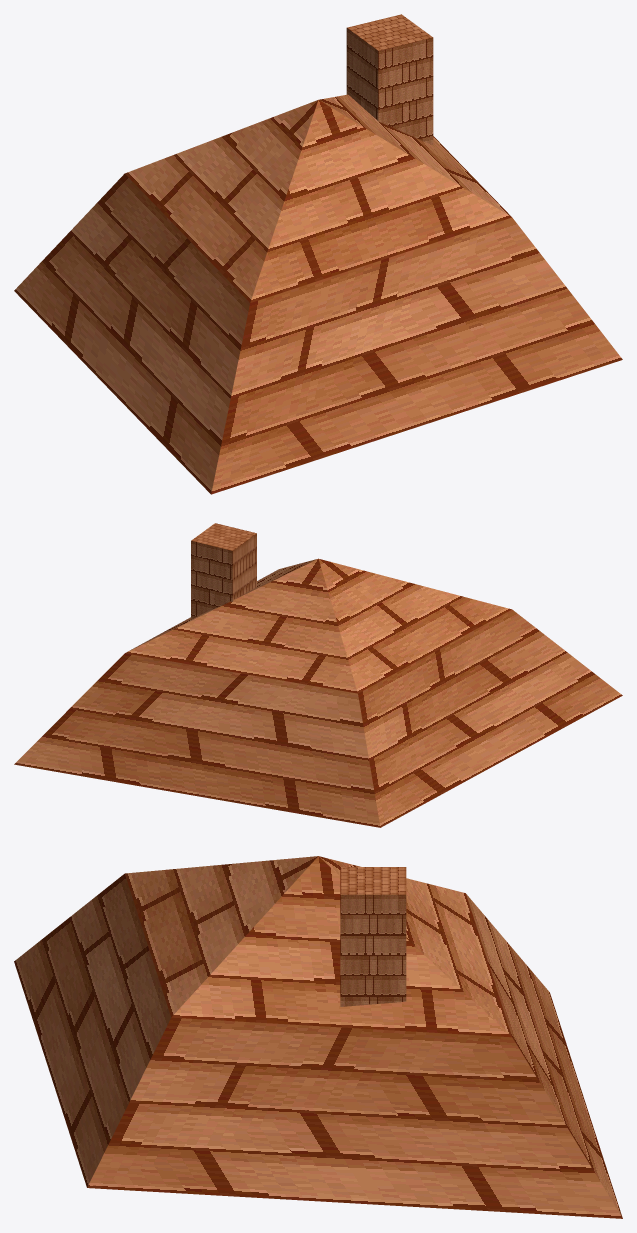
Rendered from telhado_10_padaria.glb.
The picture shows the model from 3 angles, top to bottom: view 1: azimuth 30°, elevation 25°; view 2: azimuth 150°, elevation 25°; view 3: azimuth 270°, elevation 25°; orthographic projection. The views are drawn at different scales.
Parts seen in each view (by area): view 1: telhado_10_padaria; view 2: telhado_10_padaria; view 3: telhado_10_padaria.
Part boxes in pixels (left/top/right/bottom): telhado_10_padaria: left=14, top=14, right=622, bottom=494; telhado_10_padaria: left=14, top=523, right=622, bottom=827; telhado_10_padaria: left=14, top=856, right=622, bottom=1218.
Size of the model in its own units: 3.89 by 1.83 by 3.89.
Materials: 1 (1 with a texture image).
